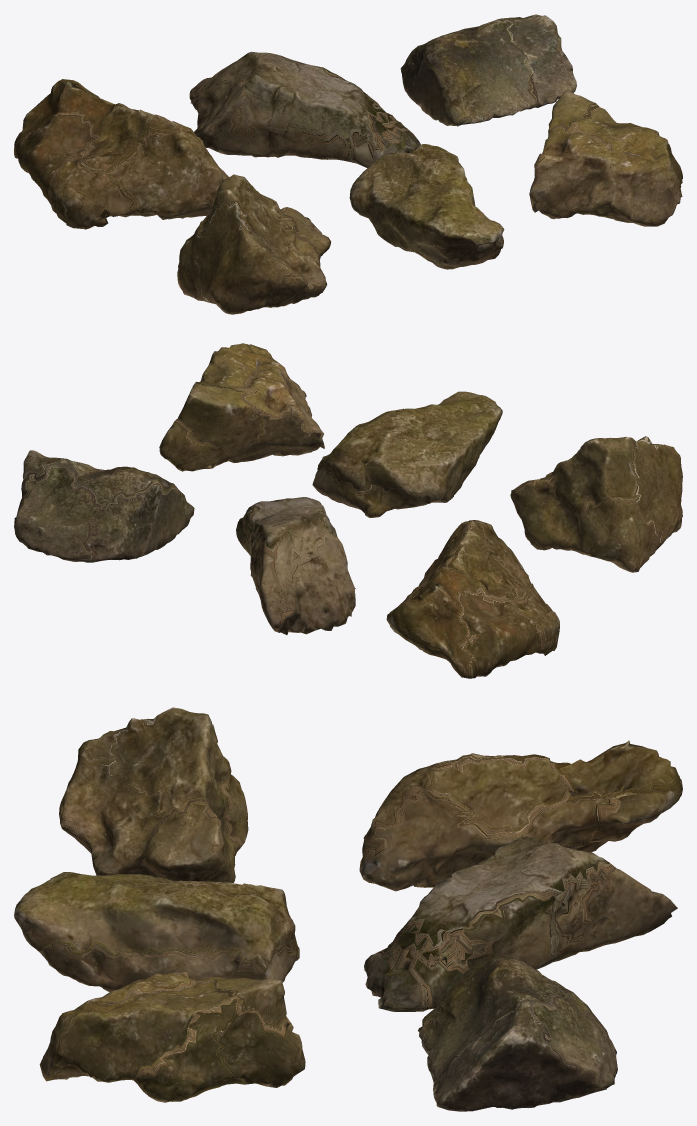
File: rock_moss_set_01.glb
3 views of the same model, one above another, from view 1: azimuth 30°, elevation 25°; view 2: azimuth 150°, elevation 25°; view 3: azimuth 270°, elevation 25° (orthographic). The views are drawn at different scales.
Parts seen in each view (by area): view 1: rock_moss_set_01_rock01; view 2: rock_moss_set_01_rock01; view 3: rock_moss_set_01_rock01.
Part boxes in pixels (x1=…): rock_moss_set_01_rock01: x1=14, y1=14, x2=682, y2=314; rock_moss_set_01_rock01: x1=14, y1=343, x2=682, y2=678; rock_moss_set_01_rock01: x1=14, y1=707, x2=682, y2=1111.
Size of the model in its own units: 8 by 1.76 by 6.94.
Materials: 1 (1 with a texture image).
